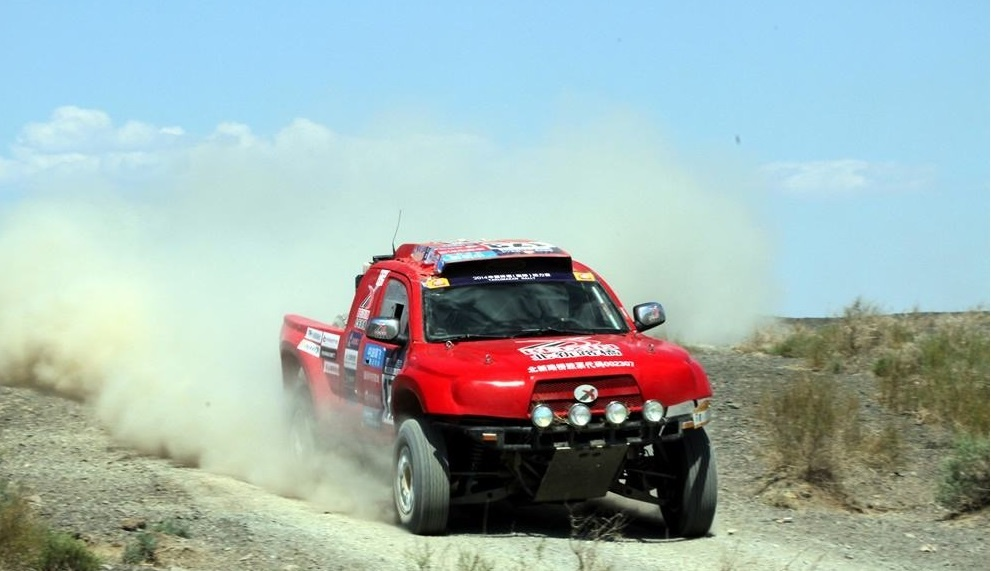racing car: (279, 233, 723, 528)
